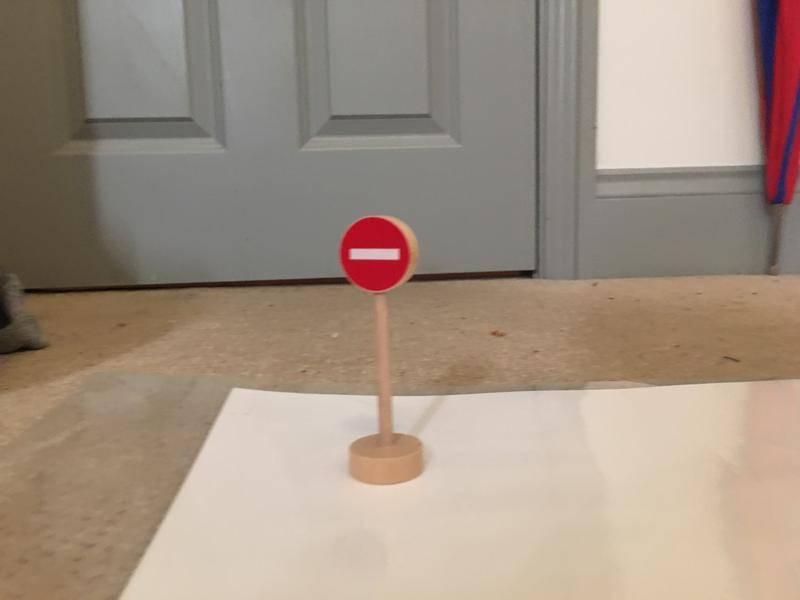Traffic_Sign_No_Entry: (339, 218, 411, 292)
